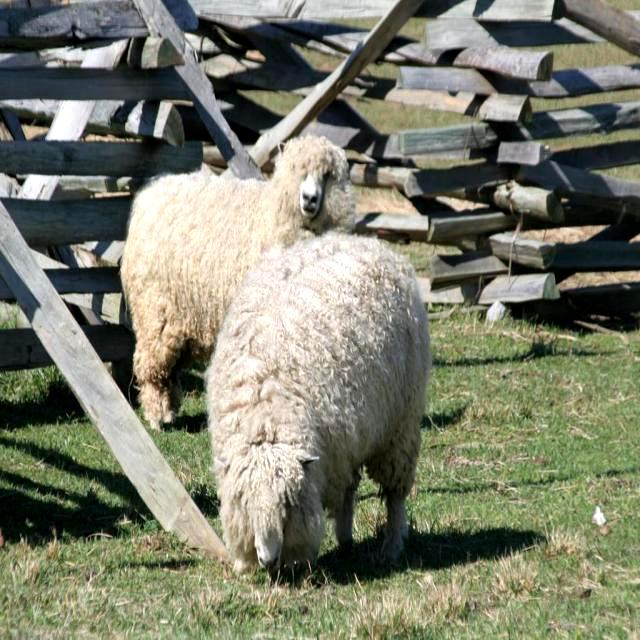sheep: (203, 231, 432, 573), (121, 135, 355, 429)
